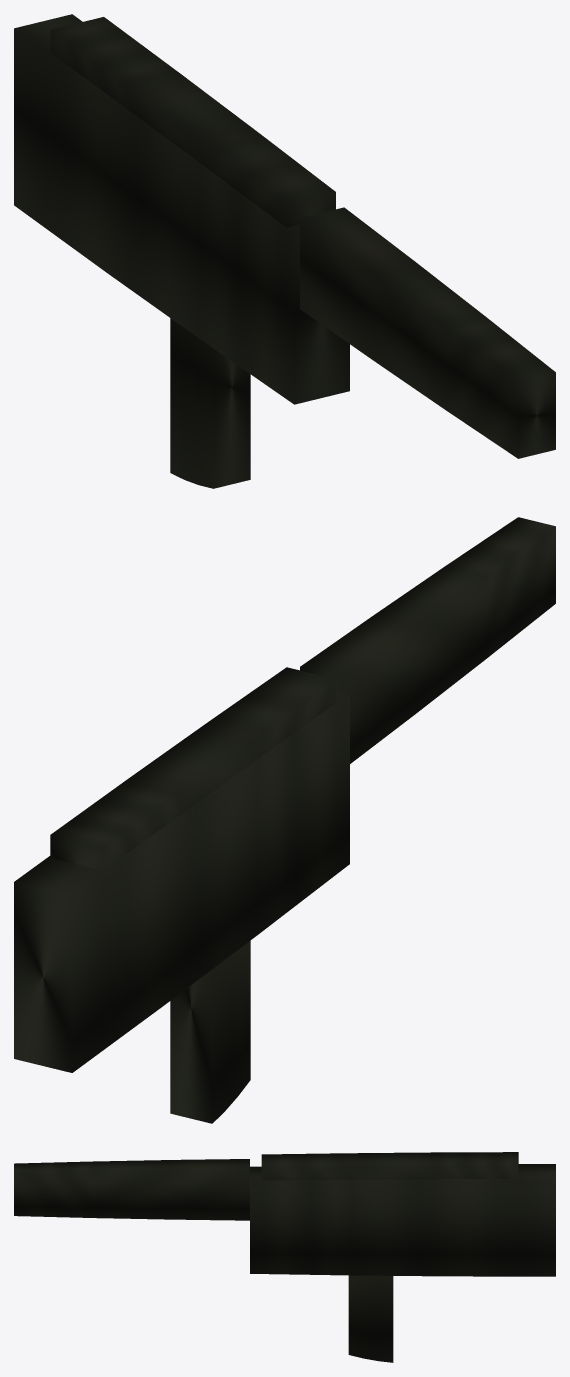
The model's file is wpn_m4a1_sopmod.glb.
The picture shows the model from 3 angles, top to bottom: view 1: azimuth 30°, elevation 25°; view 2: azimuth 150°, elevation 25°; view 3: azimuth 270°, elevation 25°; orthographic projection. The views are drawn at different scales.
Parts seen in each view (by area): view 1: SubMesh_0_Receiver, SubMesh_3_BarrelSight, SubMesh_1_Action, SubMesh_2_Magazine; view 2: SubMesh_0_Receiver, SubMesh_3_BarrelSight, SubMesh_1_Action, SubMesh_2_Magazine; view 3: SubMesh_0_Receiver, SubMesh_3_BarrelSight, SubMesh_1_Action, SubMesh_2_Magazine.
Boxes of the visible parts, left/top/right/bottom form: SubMesh_0_Receiver: left=14, top=14, right=349, bottom=404; SubMesh_3_BarrelSight: left=300, top=207, right=555, bottom=458; SubMesh_1_Action: left=50, top=17, right=335, bottom=227; SubMesh_2_Magazine: left=170, top=318, right=250, bottom=488; SubMesh_0_Receiver: left=14, top=693, right=349, bottom=1072; SubMesh_3_BarrelSight: left=300, top=517, right=555, bottom=763; SubMesh_1_Action: left=50, top=667, right=335, bottom=870; SubMesh_2_Magazine: left=170, top=940, right=250, bottom=1123; SubMesh_0_Receiver: left=250, top=1164, right=555, bottom=1276; SubMesh_3_BarrelSight: left=14, top=1159, right=249, bottom=1220; SubMesh_1_Action: left=261, top=1152, right=518, bottom=1180; SubMesh_2_Magazine: left=348, top=1275, right=393, bottom=1362.
Bounding box in the file's own units: 0.058 × 0.3426 × 0.85.
Materials: 1 (1 with a texture image).
